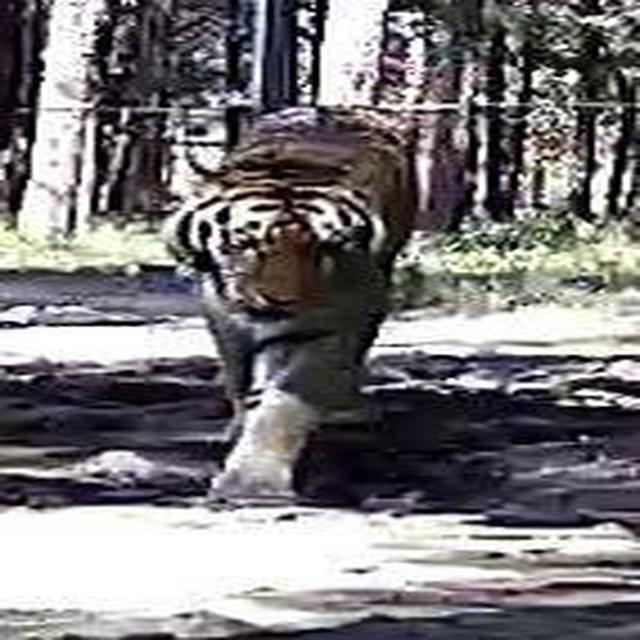tiger: (159, 104, 421, 505)
